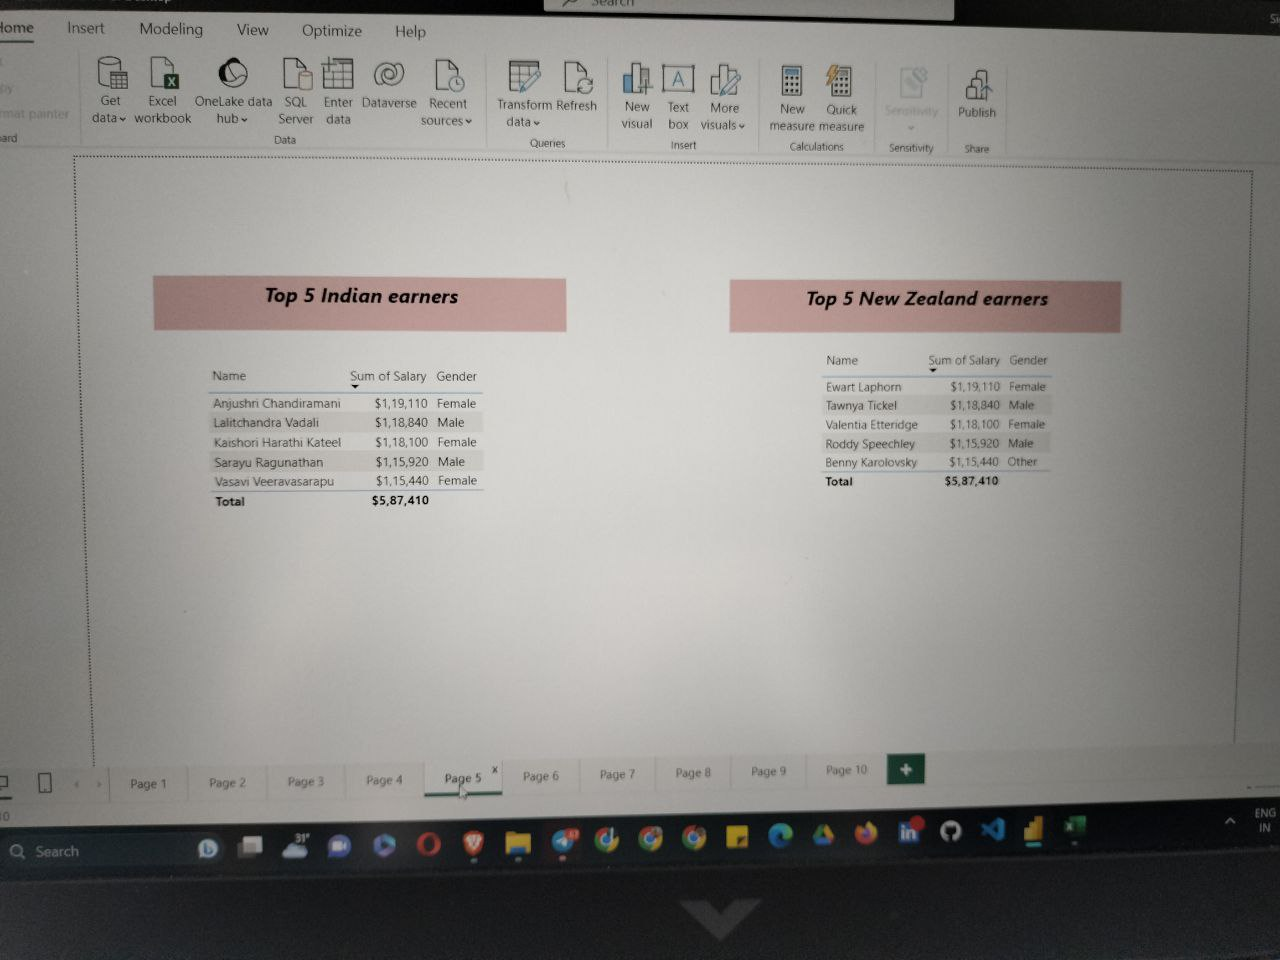

This screenshot's page, from the dashboard's own definition file:
{"tool":"powerbi","page":{"name":"Page 5","canvas":[1280,720],"ordinal":4},"visuals":[{"type":"tableEx","fields":{"Values":["Data.Name","Sum(Data.Salary)","Data.Gender"]},"box":[126.7,213.3,310,178.9],"z":1000},{"type":"tableEx","fields":{"Values":["Data.Name","Sum(Data.Salary)","Data.Gender"]},"box":[787.8,195.6,293.3,173.3],"z":2000},{"type":"textbox","box":[1130,71,150,195],"z":2003},{"type":"textbox","box":[77.8,123.3,435.6,57.8],"z":2004},{"type":"textbox","box":[691.1,123.3,438.9,57.8],"z":2005}]}

Visuals, with their boxes on the page's 1280x720 design canvas (x1, y1, x2, y2). These are canvas units, not pixel positions in the 1280x960 screenshot, which may show the page scaled, cropped or inside an application window:
tableEx - Data.Name x Sum(Data.Salary): crop(127, 213, 437, 392)
tableEx - Data.Name x Sum(Data.Salary): crop(788, 196, 1081, 369)
textbox: crop(1130, 71, 1280, 266)
textbox: crop(78, 123, 513, 181)
textbox: crop(691, 123, 1130, 181)
